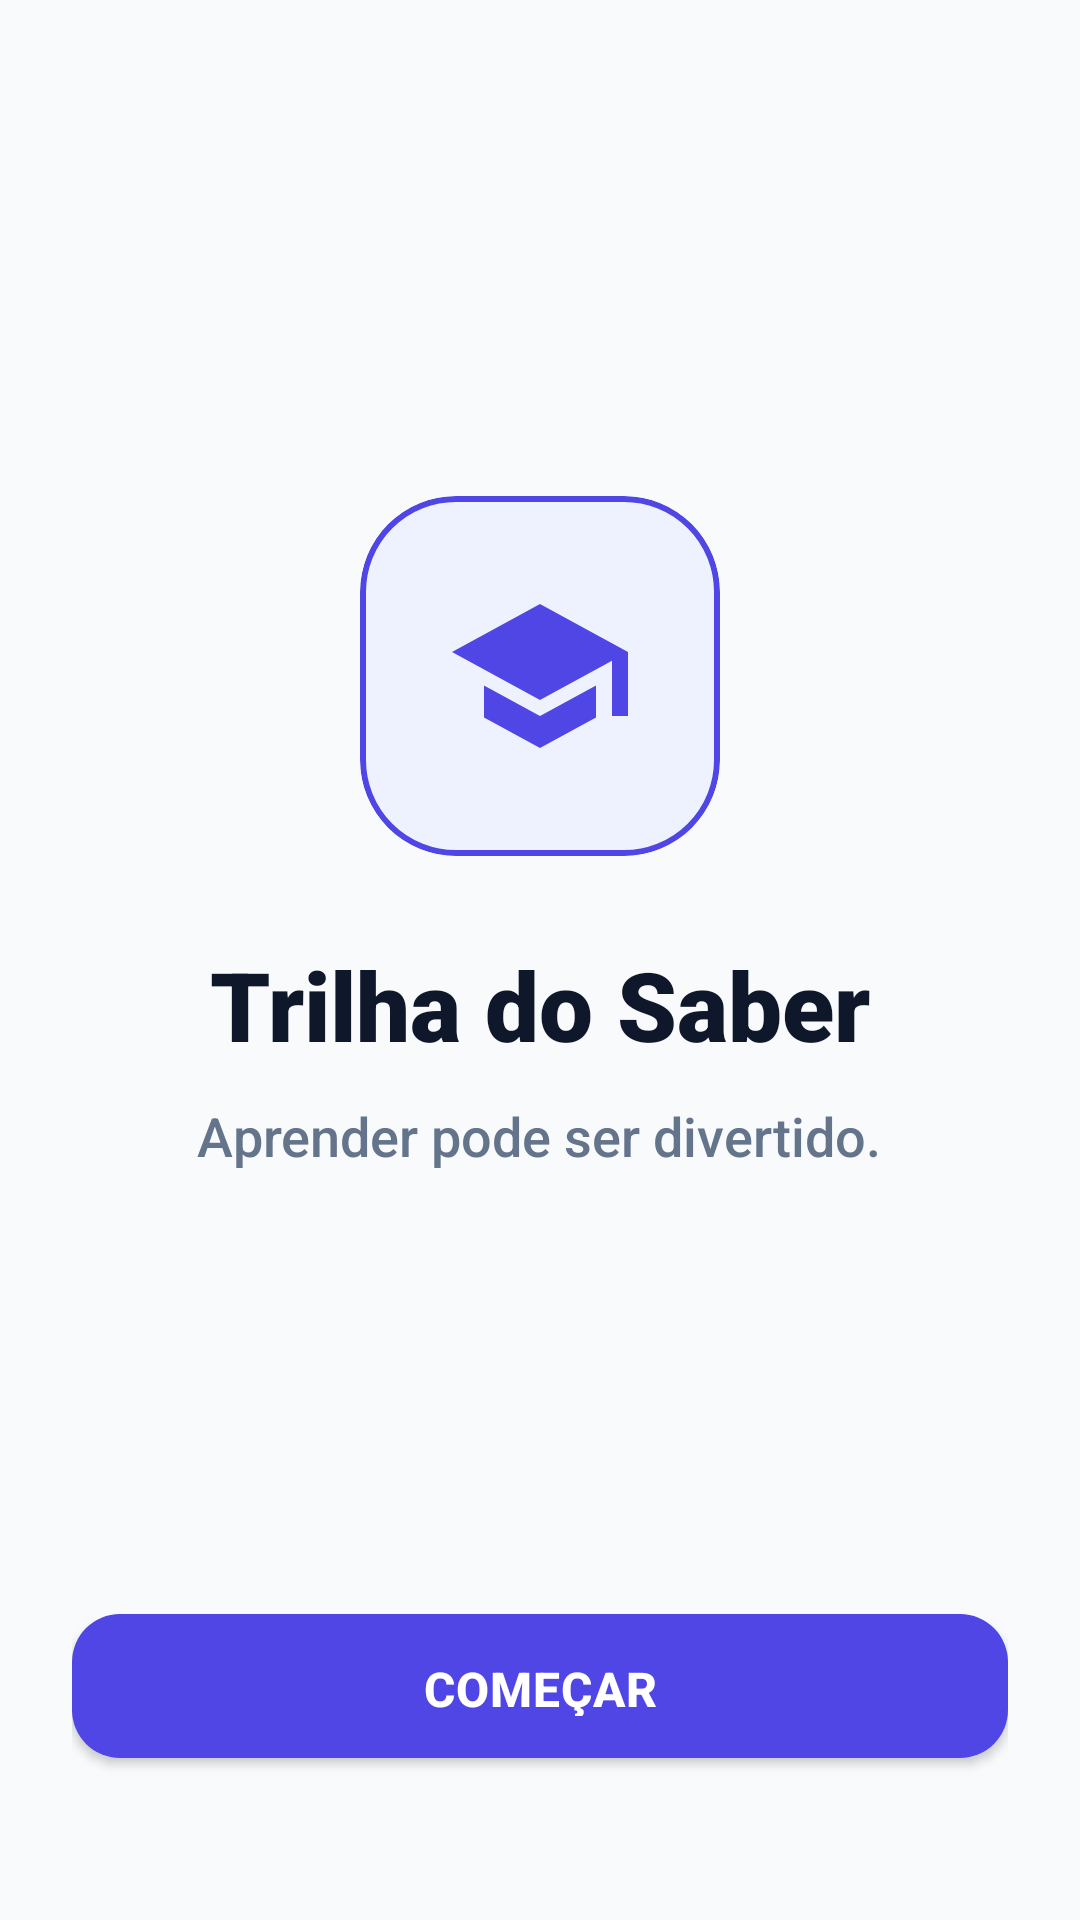

Point at icon controls on the screen. Image size 1080px x 1920px, points as (x=x, y=y).
school: (x=540, y=676)
